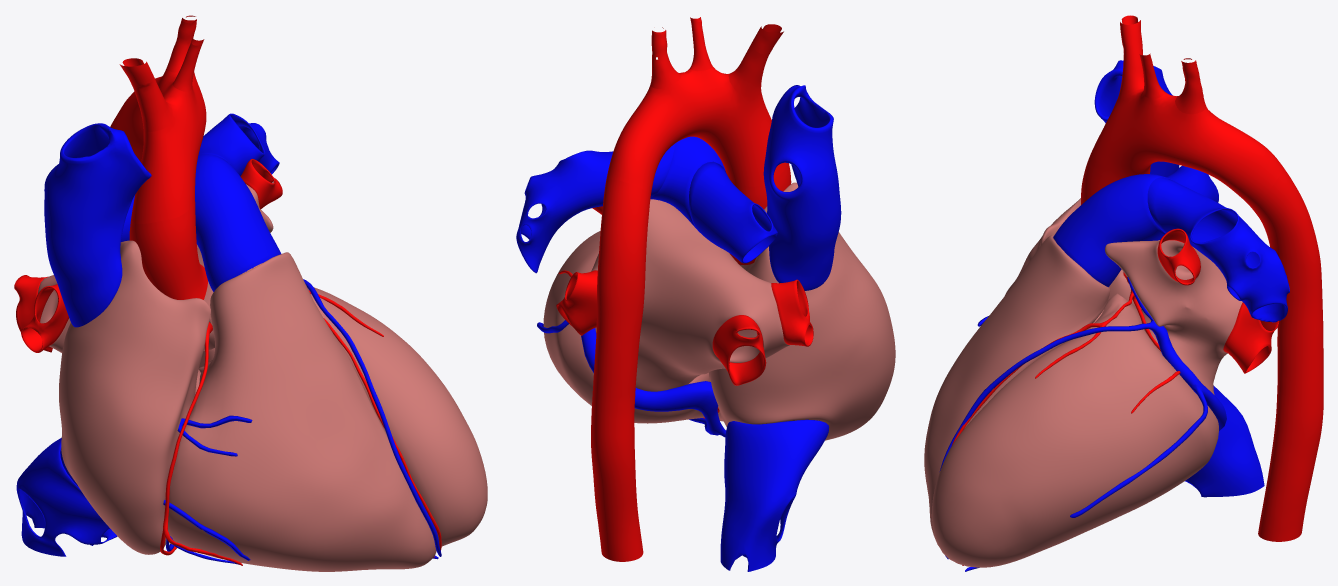
The model's file is heart.glb.
The picture shows the model from 3 angles, left to right: view 1: azimuth 30°, elevation 25°; view 2: azimuth 150°, elevation 25°; view 3: azimuth 270°, elevation 25°; orthographic projection. The views are drawn at different scales.
Visible parts, largest first — view 1: VH_M_heart_right_ventricle, VH_M_right_cardiac_atrium, VH_M_heart_left_ventricle, VH_M_superior_vena_cava, VH_M_aortic_arch, VH_M_pulmonary_trunk, VH_M_inferior_vena_cava_a, VH_M_ascending_aorta, VH_M_pulmonary_artery_L, VH_M_pulmonary_vein_R_sup, VH_M_great_cardiac_vein, VH_M_brachiocephalic_artery_a (+9 smaller); view 2: VH_M_right_cardiac_atrium, VH_M_left_cardiac_atrium, VH_M_descending_aorta_a, VH_M_aortic_arch, VH_M_superior_vena_cava, VH_M_inferior_vena_cava_a, VH_M_pulmonary_artery_L, VH_M_pulmonary_artery_R, VH_M_heart_left_ventricle, VH_M_coronary_sinus, VH_M_pulmonary_trunk, VH_M_pulmonary_vein_R_inf (+7 smaller); view 3: VH_M_heart_left_ventricle, VH_M_descending_aorta_a, VH_M_heart_right_ventricle, VH_M_aortic_arch, VH_M_left_cardiac_atrium, VH_M_pulmonary_artery_L, VH_M_pulmonary_trunk, VH_M_inferior_vena_cava_a, VH_M_pulmonary_vein_L_inf, VH_M_superior_vena_cava, VH_M_coronary_sinus, VH_M_great_cardiac_vein (+10 smaller).
Part boxes in pixels (left/top/right/bottom): VH_M_heart_right_ventricle: left=164, top=252, right=436, bottom=571; VH_M_right_cardiac_atrium: left=59, top=240, right=210, bottom=554; VH_M_heart_left_ventricle: left=199, top=287, right=487, bottom=546; VH_M_superior_vena_cava: left=44, top=123, right=151, bottom=327; VH_M_aortic_arch: left=117, top=68, right=206, bottom=223; VH_M_pulmonary_trunk: left=195, top=154, right=281, bottom=291; VH_M_inferior_vena_cava_a: left=16, top=438, right=117, bottom=556; VH_M_ascending_aorta: left=129, top=205, right=207, bottom=299; VH_M_pulmonary_artery_L: left=198, top=113, right=279, bottom=176; VH_M_pulmonary_vein_R_sup: left=21, top=284, right=68, bottom=352; VH_M_great_cardiac_vein: left=303, top=279, right=441, bottom=556; VH_M_brachiocephalic_artery_a: left=132, top=77, right=172, bottom=131; VH_M_right_cardiac_atrium: left=709, top=182, right=895, bottom=440; VH_M_left_cardiac_atrium: left=591, top=199, right=789, bottom=391; VH_M_descending_aorta_a: left=591, top=179, right=650, bottom=561; VH_M_aortic_arch: left=606, top=67, right=786, bottom=196; VH_M_superior_vena_cava: left=763, top=85, right=841, bottom=290; VH_M_inferior_vena_cava_a: left=720, top=419, right=829, bottom=571; VH_M_pulmonary_artery_L: left=516, top=144, right=674, bottom=273; VH_M_pulmonary_artery_R: left=689, top=161, right=778, bottom=263; VH_M_heart_left_ventricle: left=543, top=231, right=709, bottom=423; VH_M_coronary_sinus: left=581, top=328, right=725, bottom=436; VH_M_pulmonary_trunk: left=650, top=136, right=725, bottom=228; VH_M_pulmonary_vein_R_inf: left=712, top=315, right=766, bottom=385; VH_M_heart_left_ventricle: left=931, top=293, right=1218, bottom=567; VH_M_descending_aorta_a: left=1249, top=167, right=1323, bottom=541; VH_M_heart_right_ventricle: left=924, top=235, right=1110, bottom=545; VH_M_aortic_arch: left=1087, top=88, right=1282, bottom=205; VH_M_left_cardiac_atrium: left=1105, top=240, right=1242, bottom=394; VH_M_pulmonary_artery_L: left=1147, top=177, right=1289, bottom=322; VH_M_pulmonary_trunk: left=1053, top=174, right=1176, bottom=287; VH_M_inferior_vena_cava_a: left=1185, top=386, right=1264, bottom=497; VH_M_pulmonary_vein_L_inf: left=1223, top=302, right=1279, bottom=373; VH_M_superior_vena_cava: left=1094, top=60, right=1179, bottom=177; VH_M_coronary_sinus: left=1147, top=315, right=1226, bottom=430; VH_M_great_cardiac_vein: left=939, top=323, right=1149, bottom=559.
Bounding box in the file's own units: 0.1244 × 0.17 × 0.1288.
